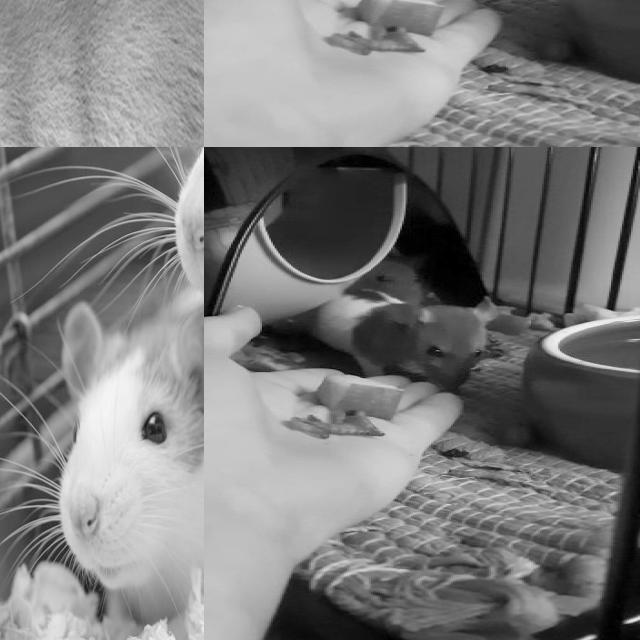rat: (25, 271, 204, 640), (0, 0, 204, 147), (269, 290, 492, 394), (341, 256, 434, 306)
